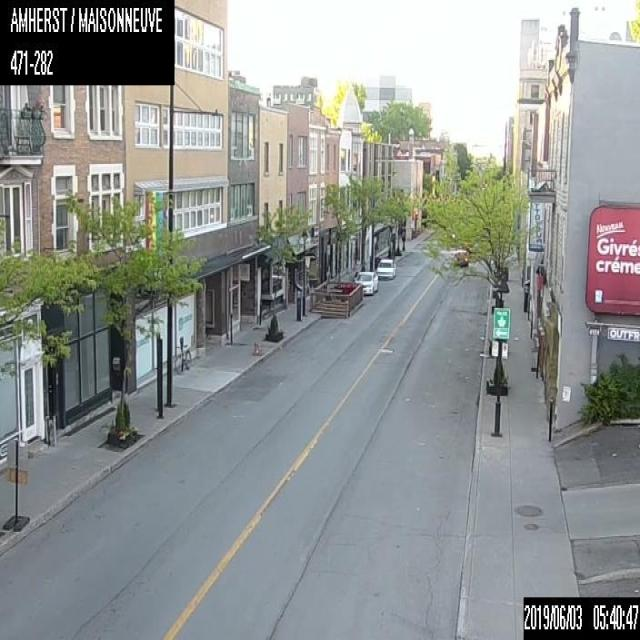vehicle: (354, 270, 377, 294), (376, 258, 395, 278), (452, 249, 468, 266)
